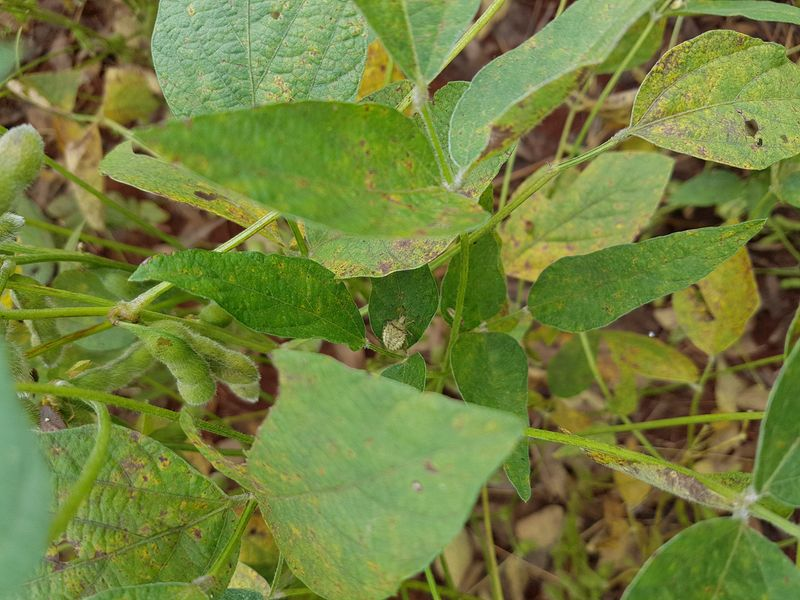Euschistus_heros_adulto: (31, 398, 75, 443)
Euschistus_heros_ninfa: (374, 310, 422, 360)
